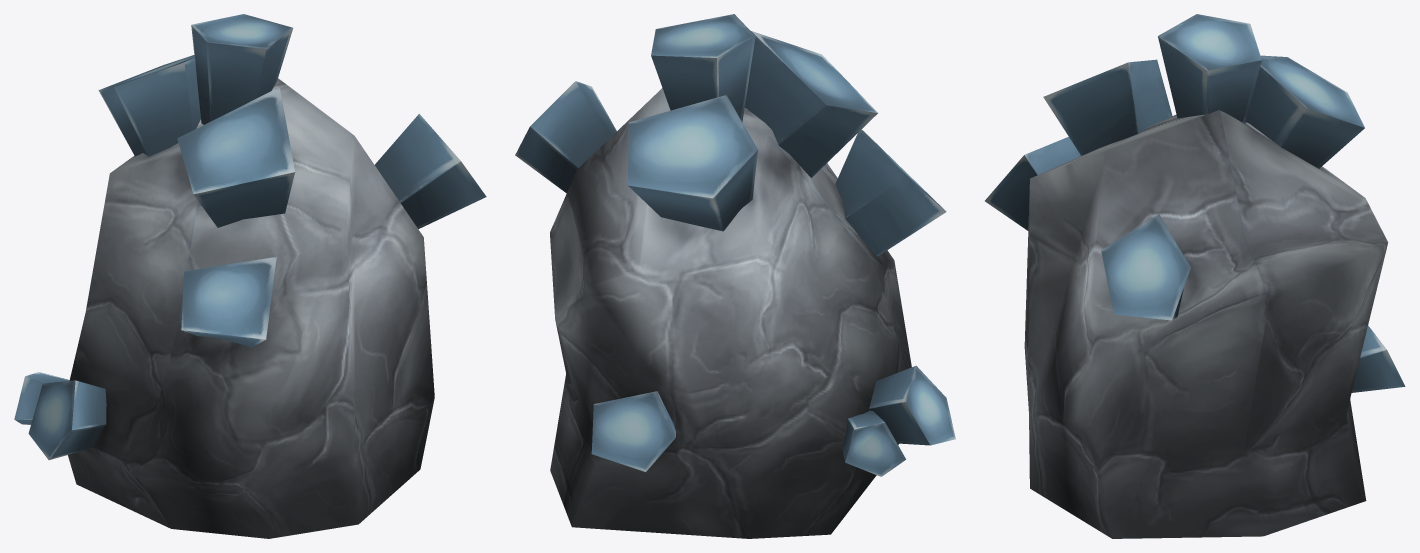
File: ore_big_iron.fbx
3 renders of one model, left to right at view 1: azimuth 30°, elevation 25°; view 2: azimuth 150°, elevation 25°; view 3: azimuth 270°, elevation 25°, orthographic. The views are drawn at different scales.
Parts seen in each view (by area): view 1: ore_big_iron:Mesh; view 2: ore_big_iron:Mesh; view 3: ore_big_iron:Mesh.
Boxes of the visible parts, x1,y1,x2,y2 form: ore_big_iron:Mesh: (14,14,486,538); ore_big_iron:Mesh: (515,14,955,538); ore_big_iron:Mesh: (985,14,1405,538).
Size of the model in its own units: 4.94 by 4.9 by 4.24.
